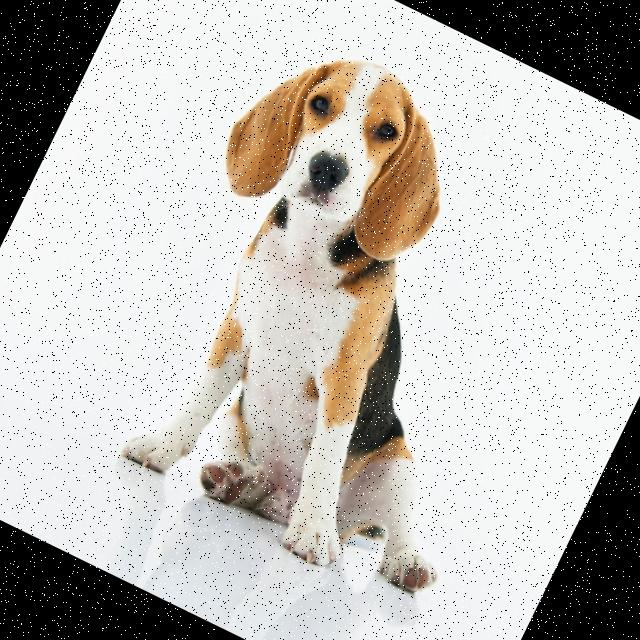Dog: (77, 18, 630, 616)
